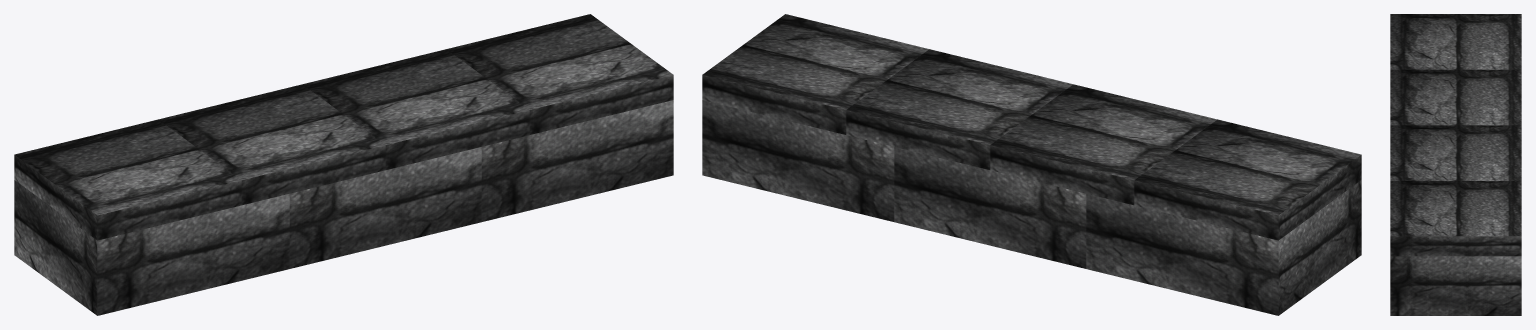
The model's file is stone slabs.glb.
3 views of the same model, side by side, from view 1: azimuth 30°, elevation 25°; view 2: azimuth 150°, elevation 25°; view 3: azimuth 270°, elevation 25° (orthographic). The views are drawn at different scales.
Parts seen in each view (by area): view 1: 9x18x18.000; view 2: 9x18x18.000; view 3: 9x18x18.000.
Boxes of the visible parts, x1,y1,x2,y2 form: 9x18x18.000: [14, 14, 673, 315]; 9x18x18.000: [702, 14, 1361, 315]; 9x18x18.000: [1390, 14, 1521, 315].
Size of the model in its own units: 1.83 by 0.3048 by 0.4572.
Materials: 1 (1 with a texture image).
